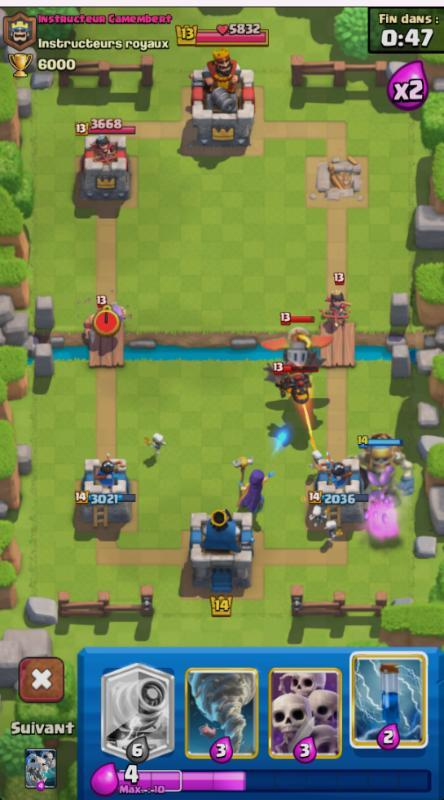enemy_inferno_dragon: (256, 316, 334, 371)
enemy_lava_hound: (267, 364, 320, 409)
enemy_lumberjack: (77, 291, 133, 344)
enemy_princess: (317, 272, 358, 332)
player_skeletons: (393, 455, 422, 498), (141, 428, 170, 456), (322, 514, 342, 543), (308, 502, 326, 527)
player_witch: (230, 453, 275, 525)
